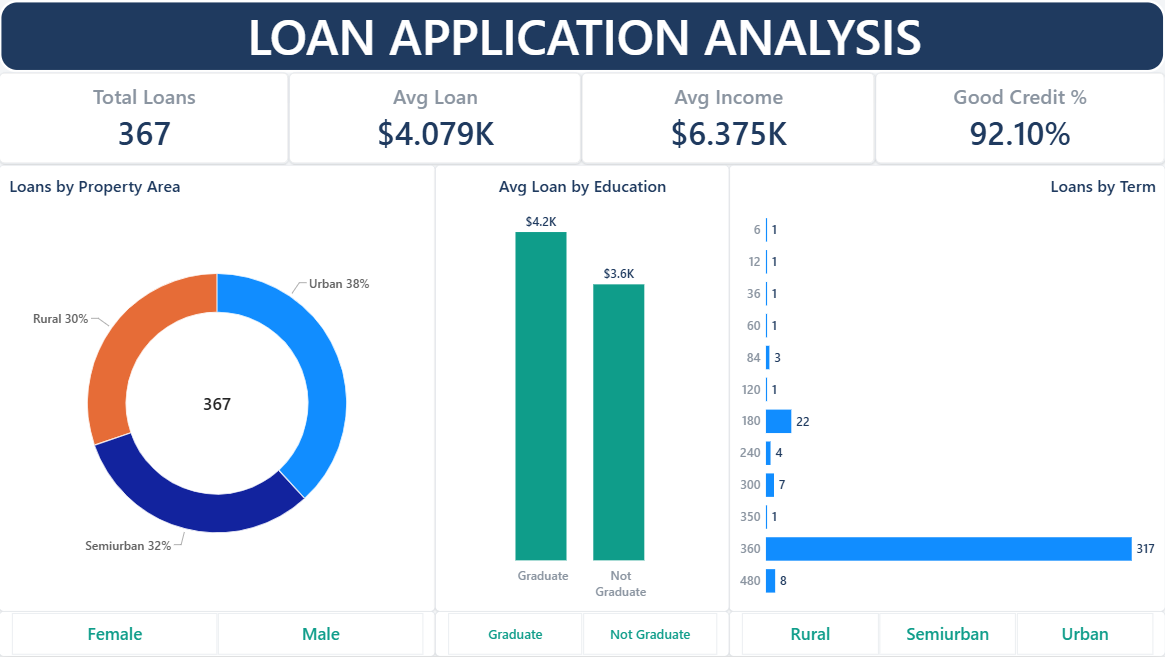

Layout of this report page (visuals, bound fields, positions):
{"tool":"powerbi","page":{"name":"General","canvas":[1920,1080],"ordinal":0},"visuals":[{"type":"textbox","title":"LOAN APPLICATION ANALYSIS","box":[0,0,1920.4,119.4],"z":0},{"type":"cardVisual","fields":{"Data":["Loan_Application_Analysis_367.Total Loans"]},"box":[0,119.4,477.5,150.3],"z":1000},{"type":"cardVisual","fields":{"Data":["Loan_Application_Analysis_367.Avg Loan"]},"box":[477.5,119.4,481.6,150.3],"z":2000},{"type":"cardVisual","fields":{"Data":["Loan_Application_Analysis_367.Avg Income"]},"box":[959.2,119.4,483.7,150.3],"z":3000},{"type":"cardVisual","fields":{"Data":["Loan_Application_Analysis_367.Good Credit %"]},"box":[1442.9,119.4,477.5,150.3],"z":4000},{"type":"donutChart","title":"Loans by Property Area","fields":{"Category":["Loan_Application_Analysis_367.Property_Area"],"Y":["Count(Loan_Application_Analysis_367.Loan_ID)"]},"box":[0,271.7,718.4,734.8],"z":5000},{"type":"clusteredBarChart","title":"Loans by Term","fields":{"Category":["Loan_Application_Analysis_367.Loan_Amount_Term"],"Y":["Loan_Application_Analysis_367.Total Loans"]},"box":[1202.1,271.7,718.4,734.8],"z":6000},{"type":"clusteredColumnChart","title":"Avg Loan by Education","fields":{"Category":["Loan_Application_Analysis_367.Education"],"Y":["Loan_Application_Analysis_367.Avg Loan"]},"box":[718.4,271.7,483.7,734.8],"z":7000},{"type":"slicer","fields":{"Values":["Loan_Application_Analysis_367.Gender"]},"box":[0,1006.5,718.4,74.1],"z":8000},{"type":"slicer","fields":{"Values":["Loan_Application_Analysis_367.Property_Area"]},"box":[1202.1,1006.5,718.4,74.1],"z":9000},{"type":"slicer","fields":{"Values":["Loan_Application_Analysis_367.Education"]},"box":[718.4,1006.5,483.7,74.1],"z":10000}]}

Visuals, with their boxes in screenshot pixels (x1, y1, x2, y2), scaled from the page's 1920x1080 canvas onto the 1165x657 screenshot:
"LOAN APPLICATION ANALYSIS" textbox: 0/0/1164/73
cardVisual - Loan_Application_Analysis_367.Total Loans: 0/73/290/164
cardVisual - Loan_Application_Analysis_367.Avg Loan: 290/73/582/164
cardVisual - Loan_Application_Analysis_367.Avg Income: 582/73/876/164
cardVisual - Loan_Application_Analysis_367.Good Credit %: 876/73/1164/164
"Loans by Property Area" donutChart: 0/165/436/612
"Loans by Term" clusteredBarChart: 729/165/1164/612
"Avg Loan by Education" clusteredColumnChart: 436/165/729/612
slicer - Loan_Application_Analysis_367.Gender: 0/612/436/656
slicer - Loan_Application_Analysis_367.Property_Area: 729/612/1164/656
slicer - Loan_Application_Analysis_367.Education: 436/612/729/656
